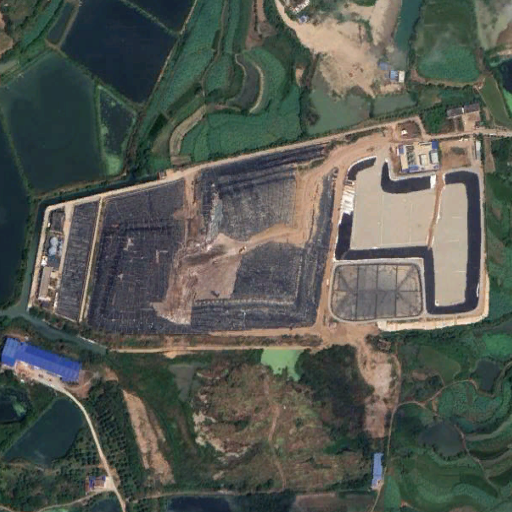lf: (95, 143, 339, 330)
